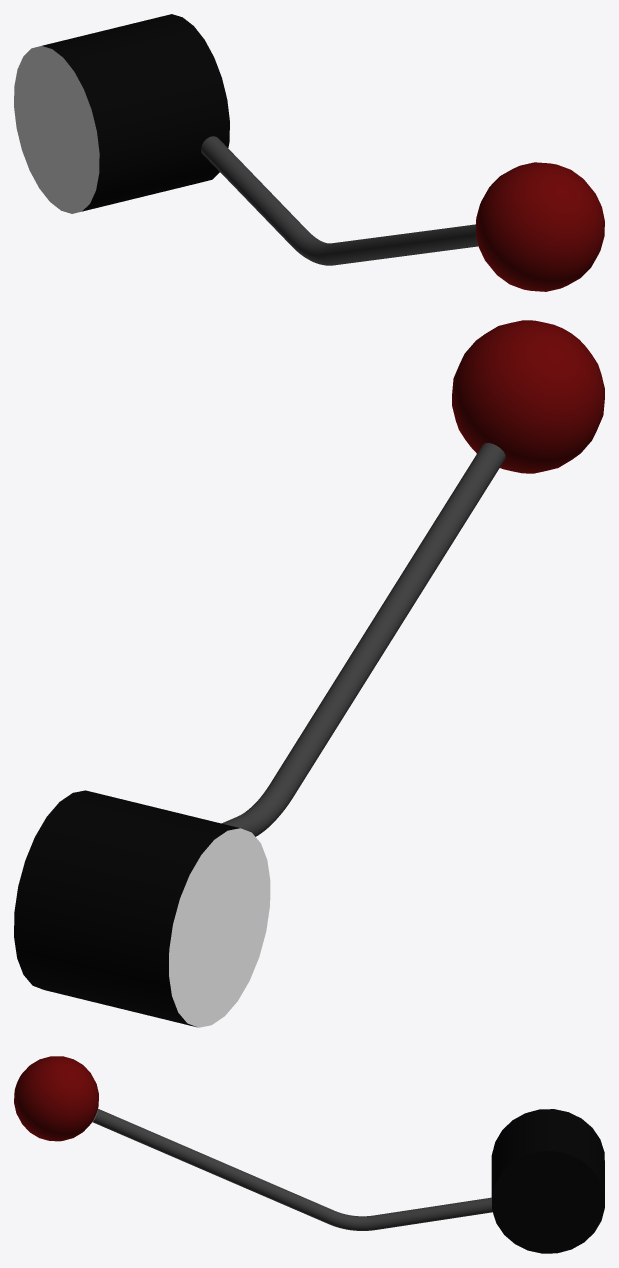
File: SpindleRotationControl.fbx
3 views of the same model, one above another, from view 1: azimuth 30°, elevation 25°; view 2: azimuth 150°, elevation 25°; view 3: azimuth 270°, elevation 25° (orthographic). The views are drawn at different scales.
Visible parts, largest first — view 1: ST_spidle1; view 2: ST_spidle1; view 3: ST_spidle1.
Boxes of the visible parts, x1,y1,x2,y2 form: ST_spidle1: [14, 14, 604, 291]; ST_spidle1: [14, 320, 604, 1027]; ST_spidle1: [14, 1056, 604, 1253].
Bounding box in the file's own units: 45.03 × 72.76 × 208.
